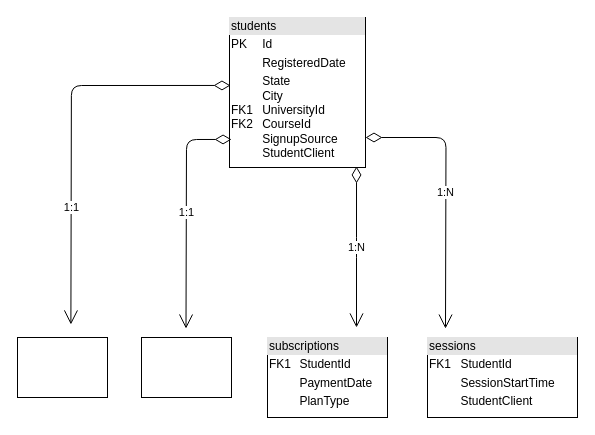
This 595x435 diagram has some shape labels left out. The shapes that lost their labels are listed below. From the top down, each one's box as (x1, y1, x2, y2) in pixels, then its label:
(16, 336, 108, 398): universities PK Id Name
(140, 336, 232, 398): courses PK Id Name
